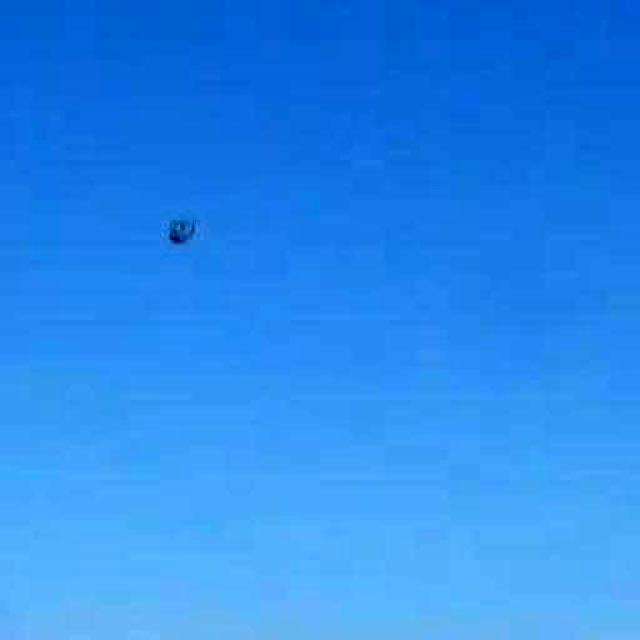drone: (145, 192, 219, 269)
